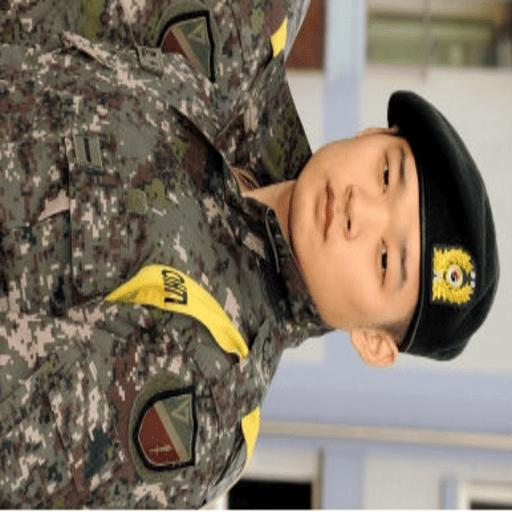korea army: (1, 0, 507, 509)
